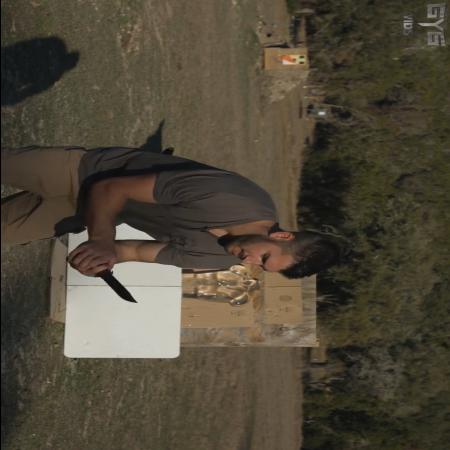long weapon: (66, 244, 142, 306)
